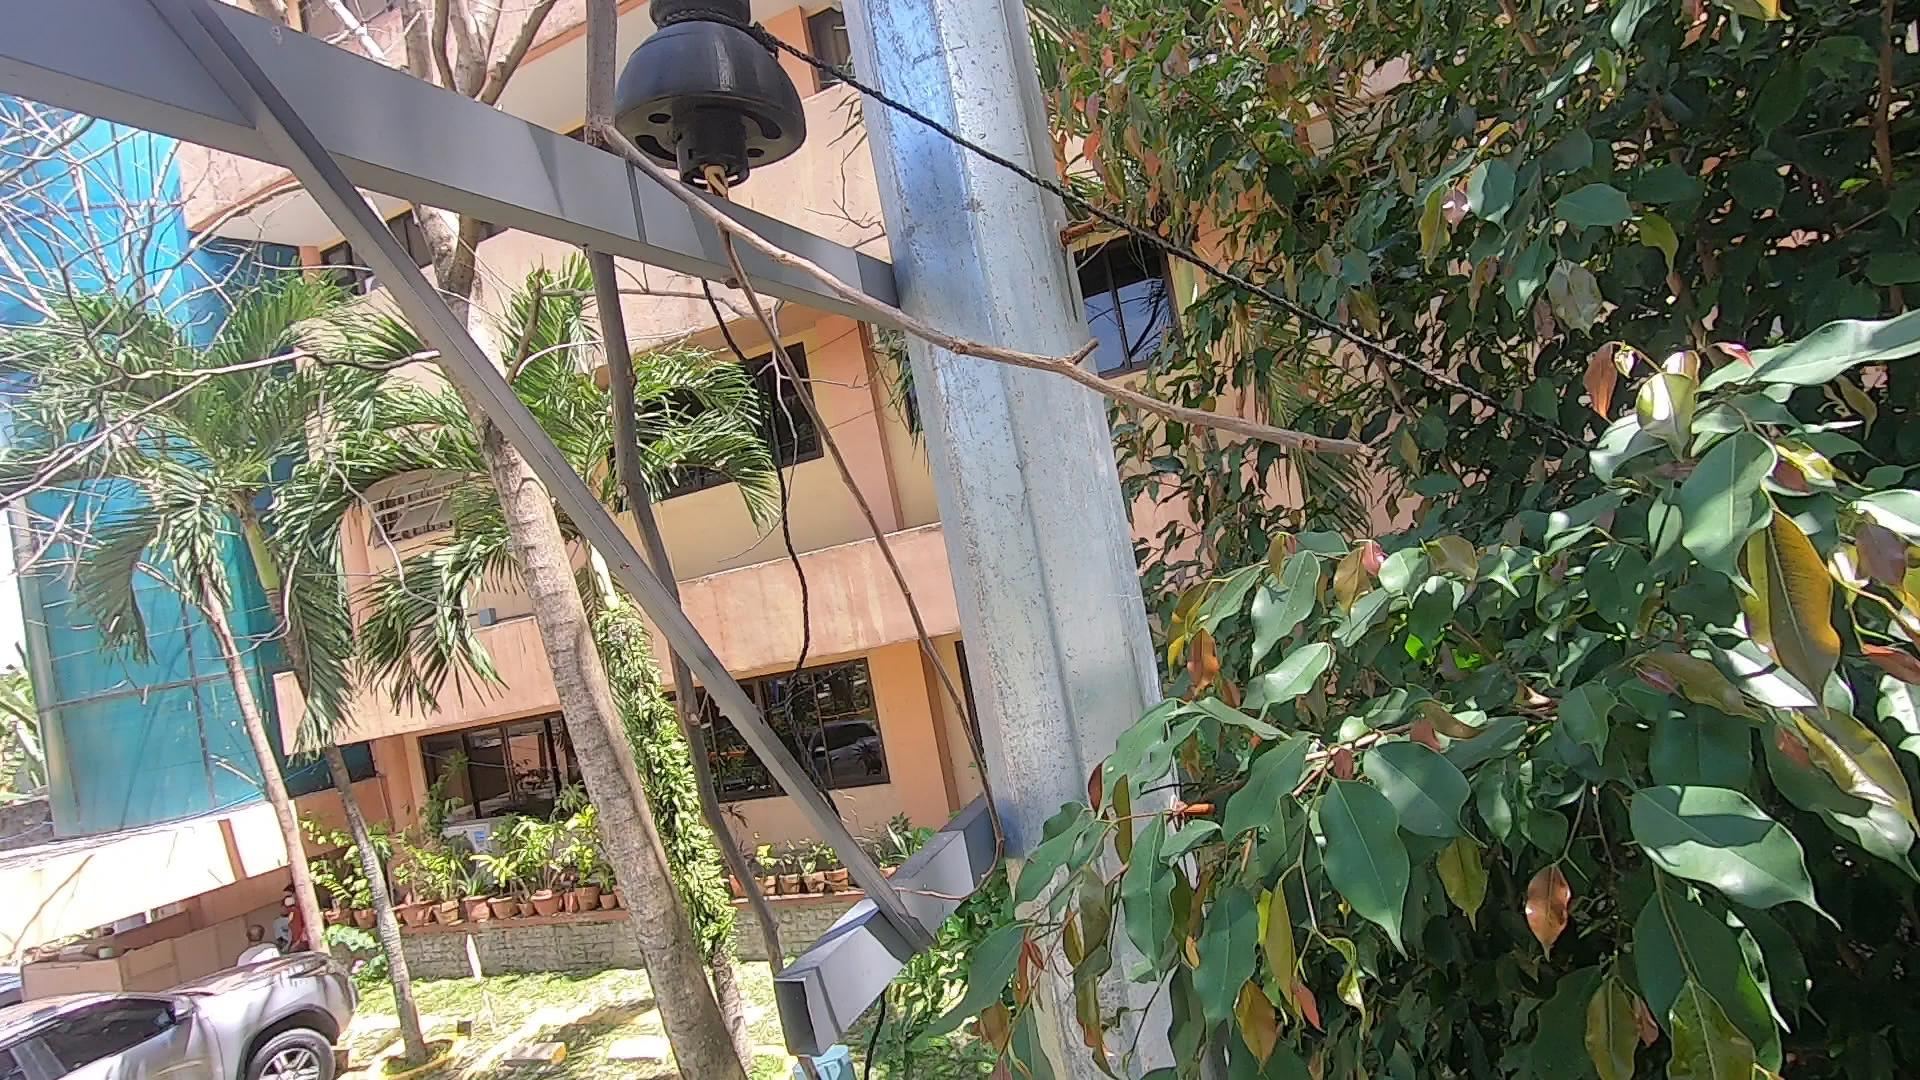tree branch: (547, 9, 1354, 1077)
